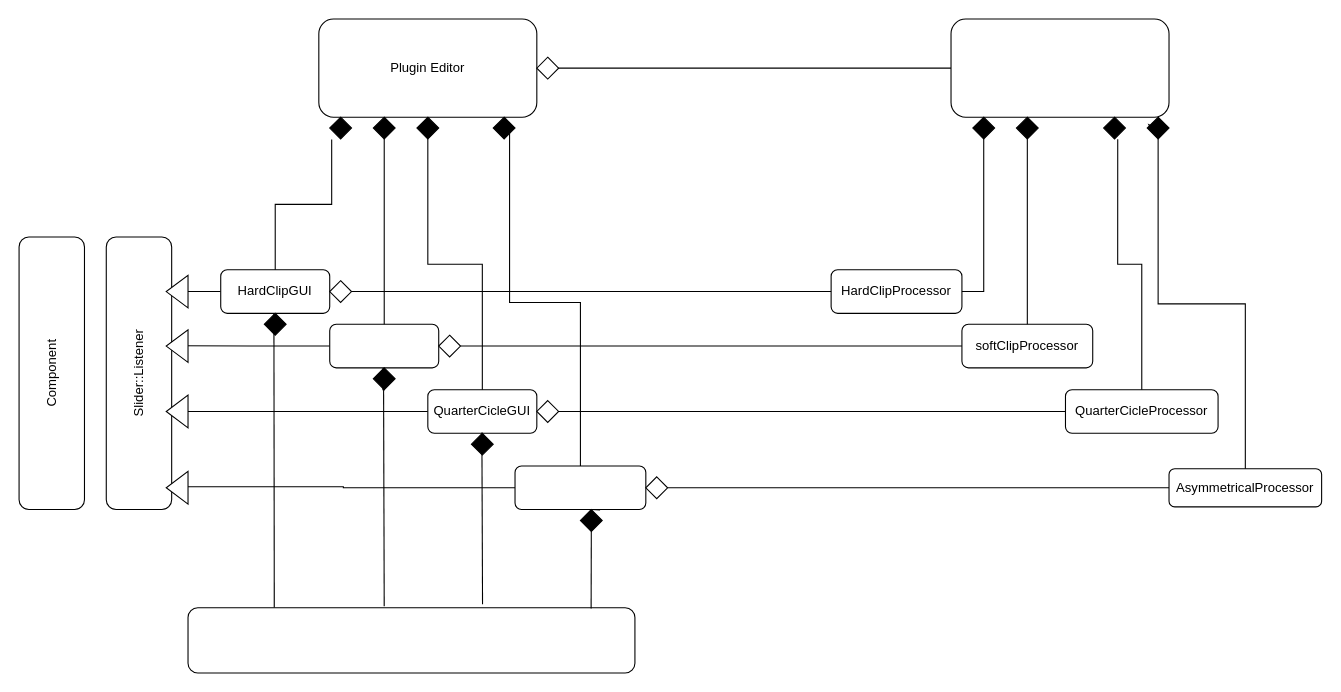
Some shapes in this 1341 by 692 pixel diagram are drawn without their labels. Each missing label, with the centre of its shape:
"AsymmetricalGUI" goes at point 580,487.
"Audio Processor" goes at point 1059,67.
"GUIposition" goes at point 411,640.
"softClipGUI" goes at point 384,345.
